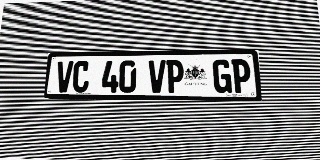0: (119, 60, 136, 93)
4: (101, 60, 119, 93)
C: (72, 61, 90, 93)
G: (213, 59, 232, 93)
P: (231, 59, 251, 93), (166, 60, 184, 93)
V: (148, 60, 166, 93), (55, 61, 74, 92)
